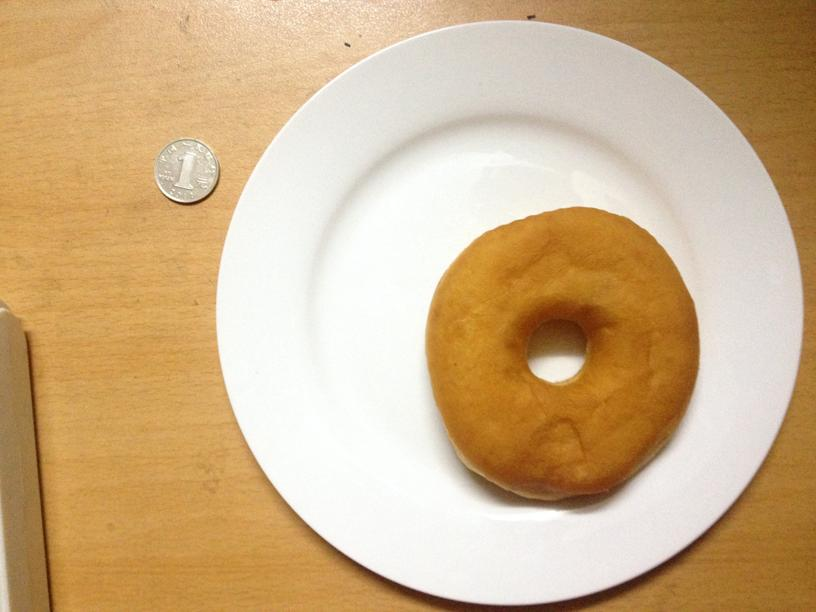coin: (153, 139, 221, 205)
doughnut: (421, 206, 701, 502)
